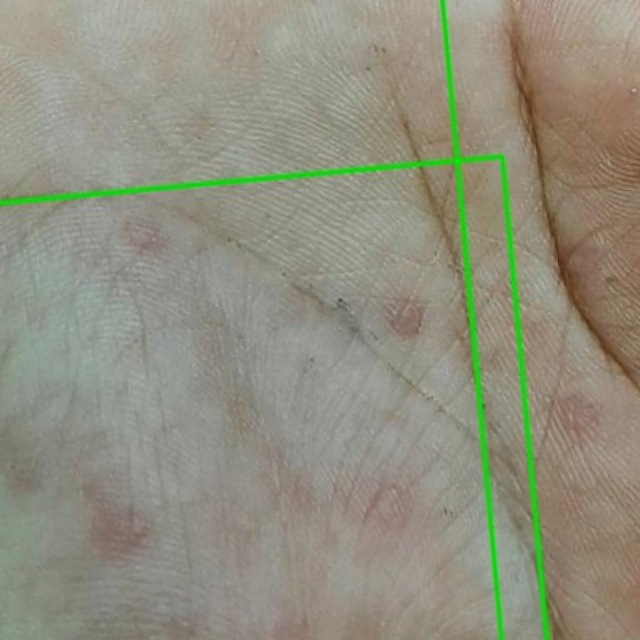Contact Dermatitis: (0, 156, 546, 639), (442, 0, 639, 639)
